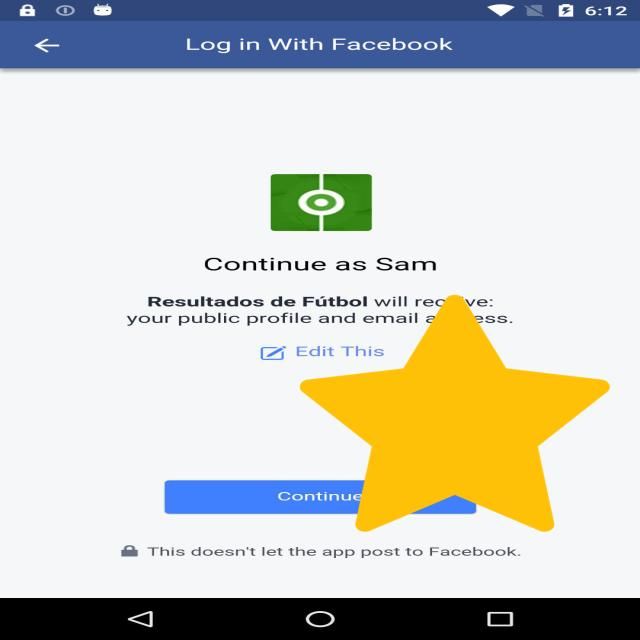forced continuity: (300, 295, 610, 532)
